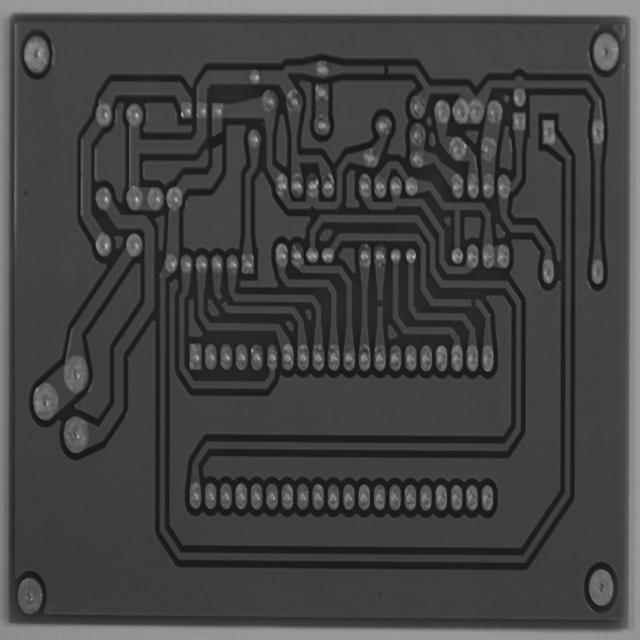open_circuit: (209, 124, 226, 152), (372, 294, 387, 312), (214, 294, 228, 310), (468, 294, 480, 312), (380, 61, 392, 78)
